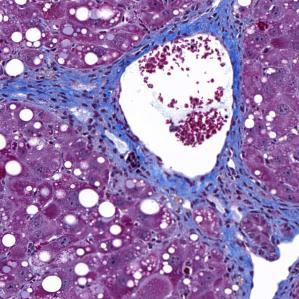fibrosis: (154, 160, 270, 241), (26, 64, 128, 142)
